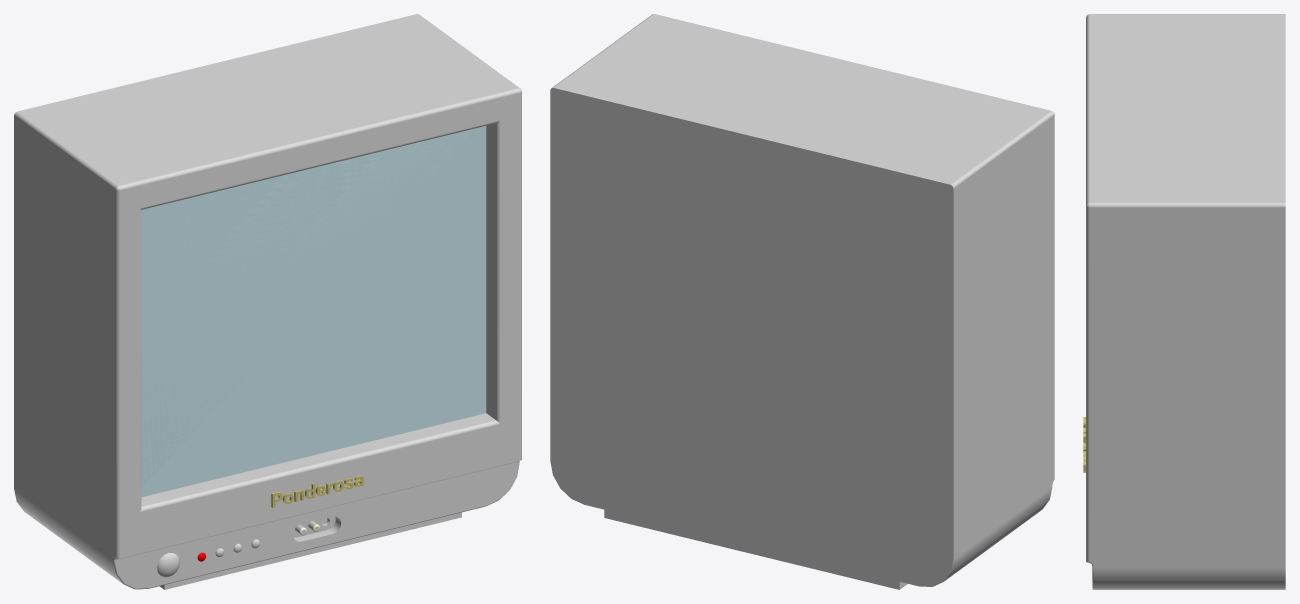
The picture shows the model from 3 angles, left to right: view 1: azimuth 30°, elevation 25°; view 2: azimuth 150°, elevation 25°; view 3: azimuth 270°, elevation 25°; orthographic projection. The views are drawn at different scales.
Visible parts, largest first — view 1: object1, object3; view 2: object1; view 3: object1.
Part boxes in pixels (bbox=[...]): object1: bbox=[14, 14, 521, 589]; object3: bbox=[141, 126, 486, 497]; object1: bbox=[550, 14, 1054, 589]; object1: bbox=[1083, 14, 1285, 589].
Bounding box in the file's own units: 59.08 × 58.46 × 26.36.
